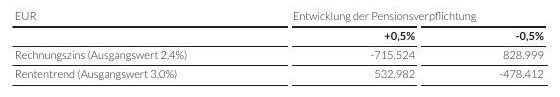table: (0, 0, 560, 97)
